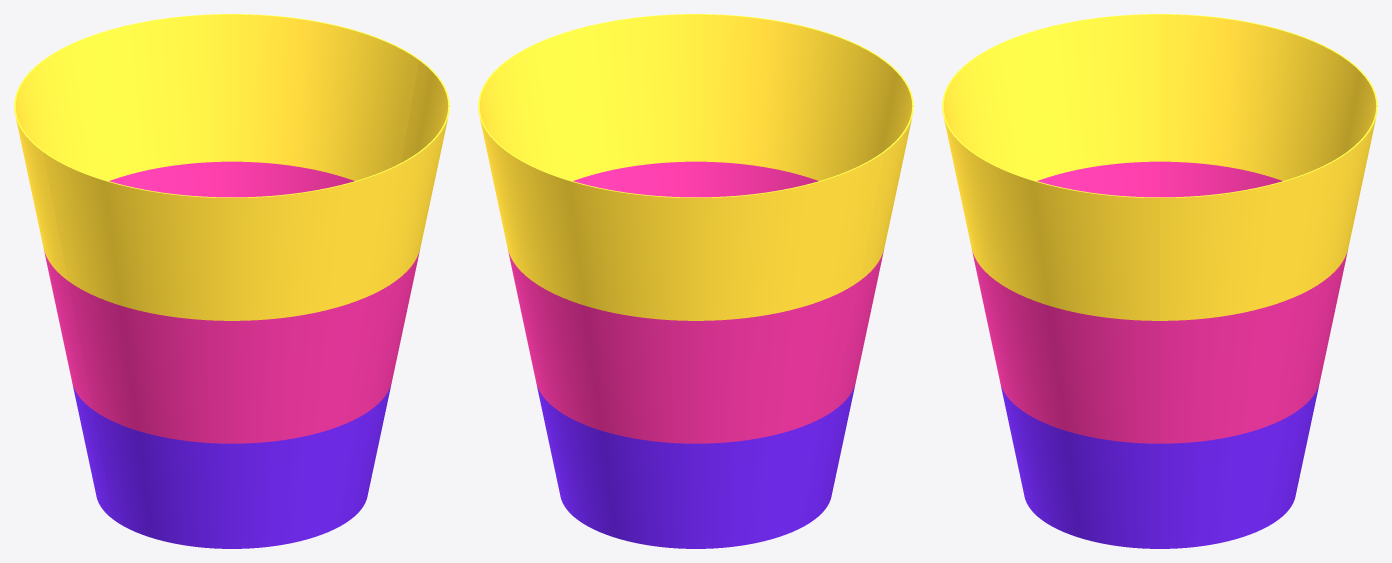
File: gyratory_crusher_wear.glb
3 renders of one model, left to right at view 1: azimuth 30°, elevation 25°; view 2: azimuth 150°, elevation 25°; view 3: azimuth 270°, elevation 25°, orthographic.
Parts seen in each view (by area): view 1: wr__front, wr__back; view 2: wr__back, wr__front; view 3: wr__back, wr__front.
Part boxes in pixels (x1,y1,x2,y2): wr__front: (43,60,449,548); wr__back: (14,14,419,519); wr__back: (478,60,884,548); wr__front: (508,14,913,519); wr__back: (1160,14,1377,548); wr__front: (942,14,1159,548).
Bounding box in the file's own units: 1.33 × 1.3 × 1.33.
